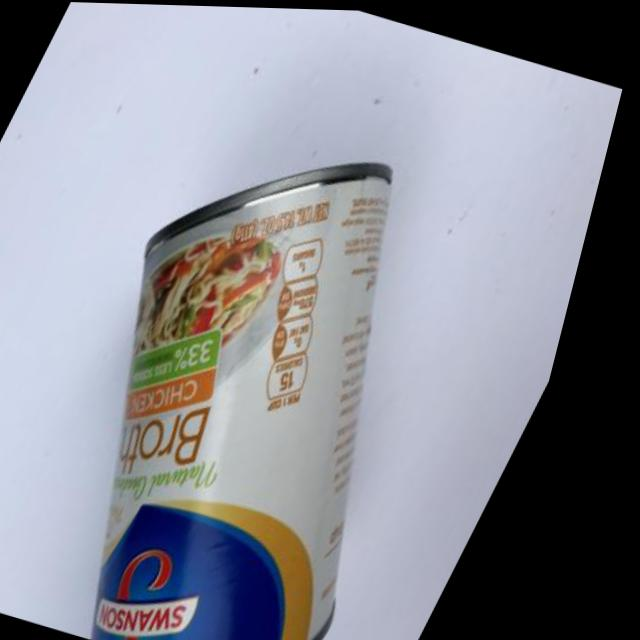metal: (0, 57, 629, 640)
